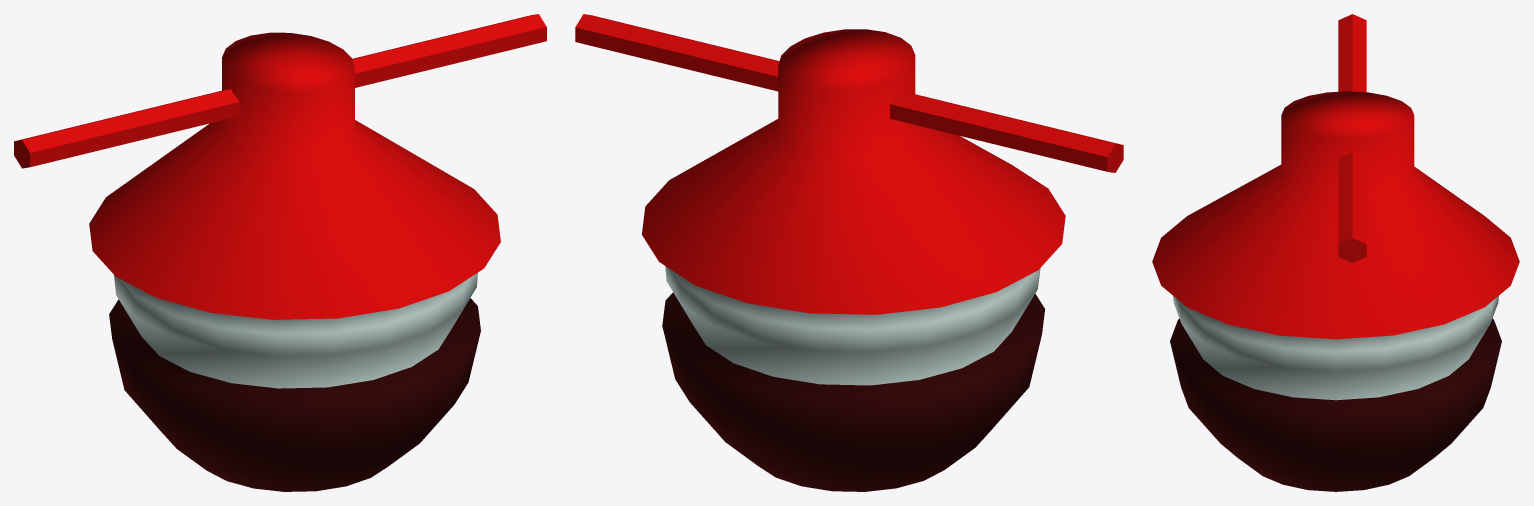
The model's file is Ferris_Wheel_Cart.fbx.
3 views of the same model, side by side, from view 1: azimuth 30°, elevation 25°; view 2: azimuth 150°, elevation 25°; view 3: azimuth 270°, elevation 25° (orthographic). The views are drawn at different scales.
Visible parts, largest first — view 1: Cart; view 2: Cart; view 3: Cart.
Part boxes in pixels (x1,y1,x2,y2): Cart: (14, 14, 546, 491); Cart: (575, 14, 1123, 491); Cart: (1152, 14, 1519, 491).
Bounding box in the file's own units: 4.64 × 3.54 × 3.22.
